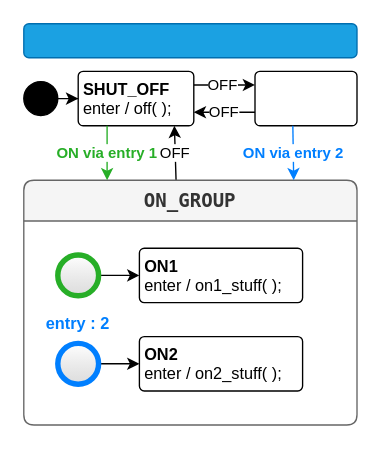
The diagram is 381 pixels wide and 449 high, and some of its shapes have lost their labels. Here are the shapes that lost their labels. From the top down, the centre of each, then its label:
At point 189,40: "$STATEMACHINE : entry_pt".
At point 305,98: "HALTED enter / halt();".
At point 77,275: "entry : 1".
